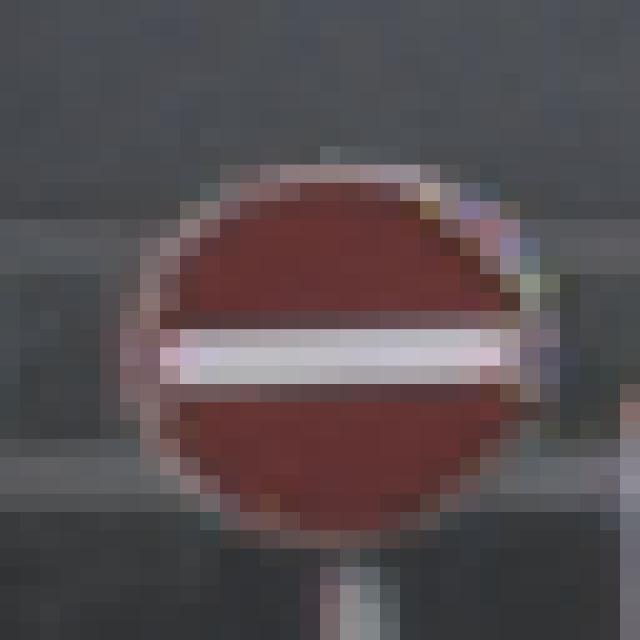No Entry: (101, 111, 541, 550)
